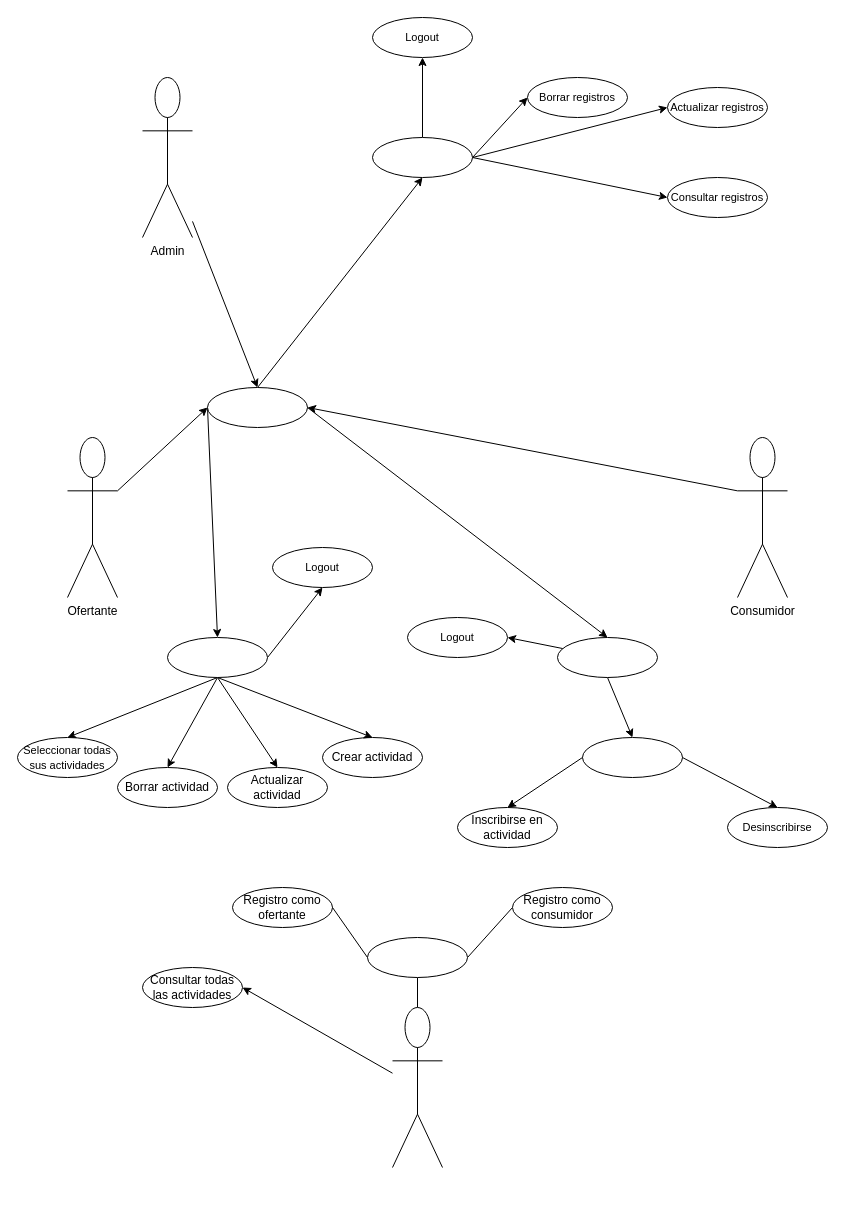
Image size: 845x1206. Some labels were removed from this diagram. The box of each missing label's shape, as (x1, y1, x2, y2) in pixels:
Consultar/filtrar actividades: (582, 736, 682, 778)
Login: (206, 386, 308, 428)
Login admin: (372, 136, 472, 178)
Login consumidor: (556, 636, 658, 678)
Login ofertante: (166, 636, 268, 678)
Registro: (366, 936, 468, 978)
Usuario: (392, 1006, 442, 1168)
